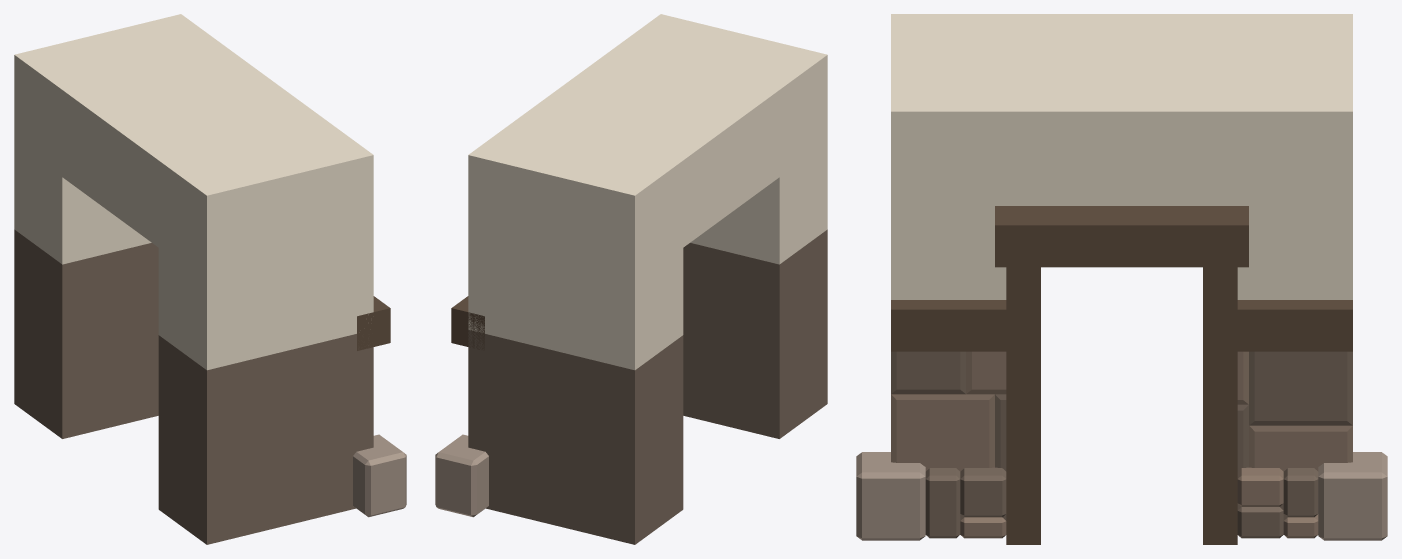
File: Stone_to_Stucco_Doorway_Wide_Tall_1.obj
3 renders of one model, left to right at view 1: azimuth 30°, elevation 25°; view 2: azimuth 150°, elevation 25°; view 3: azimuth 270°, elevation 25°, orthographic. The views are drawn at different scales.
Parts seen in each view (by area): view 1: object4, object7, object5, object2, object6; view 2: object4, object5, object7, object3, object8; view 3: object4, object1, object5, object7, object6, object8, object2, object3, object10, object9.
Boxes of the visible parts, <box> form: object4: <box>14,14,373,370</box>; object7: <box>158,334,373,544</box>; object5: <box>14,229,158,438</box>; object2: <box>353,434,406,517</box>; object6: <box>357,296,390,350</box>; object4: <box>468,14,827,370</box>; object5: <box>468,329,683,544</box>; object7: <box>683,229,827,438</box>; object3: <box>435,434,488,517</box>; object8: <box>451,296,484,350</box>; object4: <box>891,14,1352,299</box>; object1: <box>995,206,1248,544</box>; object5: <box>1237,351,1352,471</box>; object7: <box>891,351,1006,471</box>; object6: <box>891,300,1006,351</box>; object8: <box>1237,300,1352,351</box>; object2: <box>856,452,925,540</box>; object3: <box>1318,452,1387,540</box>; object10: <box>925,467,1006,538</box>; object9: <box>1237,467,1318,538</box>.
Size of the model in its own units: 1.2 by 2 by 2.3.
